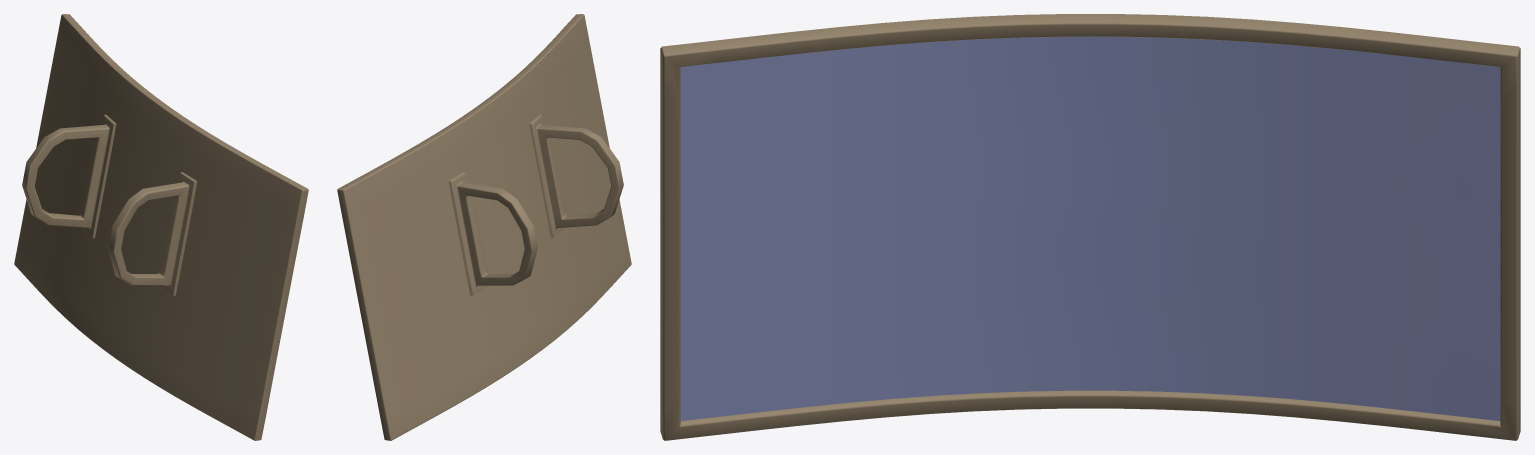
File: Television_Model00.fbx
3 renders of one model, left to right at view 1: azimuth 30°, elevation 25°; view 2: azimuth 150°, elevation 25°; view 3: azimuth 270°, elevation 25°, orthographic. The views are drawn at different scales.
Visible parts, largest first — view 1: Television; view 2: Television; view 3: Television.
Boxes of the visible parts, box(x1,y1,x2,y2) form: Television: box(14, 14, 308, 440); Television: box(337, 14, 631, 440); Television: box(660, 14, 1520, 440).
Bounding box in the file's own units: 34.91 × 66.99 × 119.
